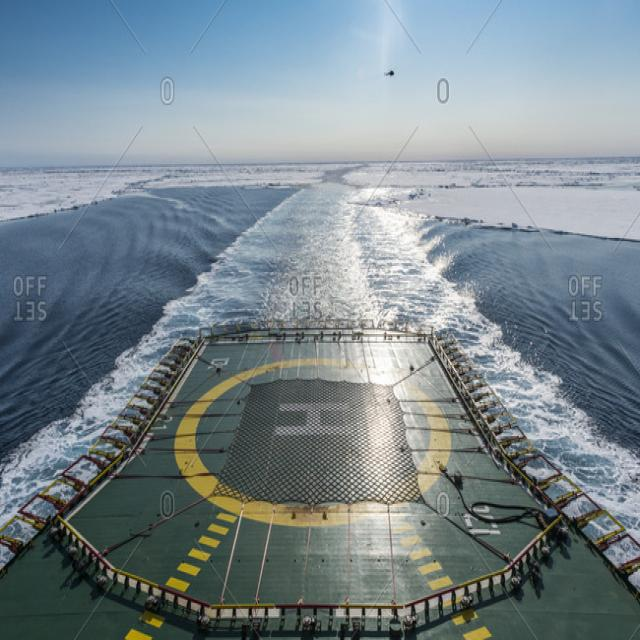helipad: (169, 353, 454, 529)
